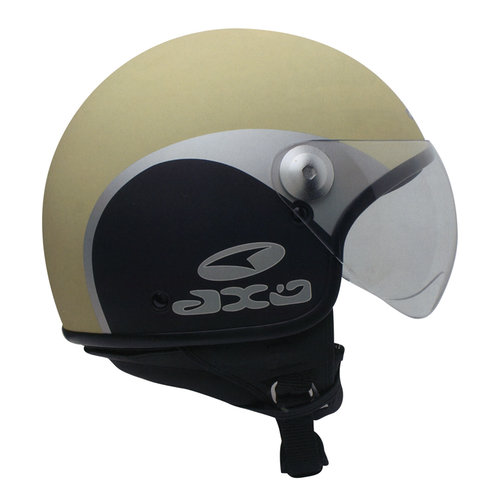helmet: (45, 35, 461, 356)
